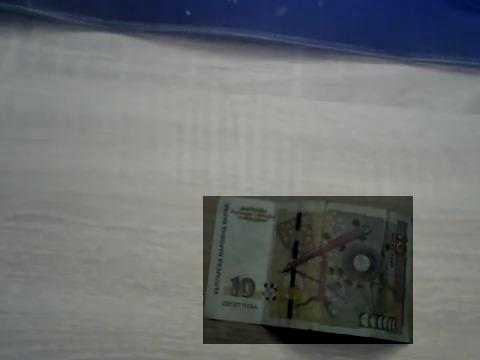10leva: (203, 196, 413, 344)
